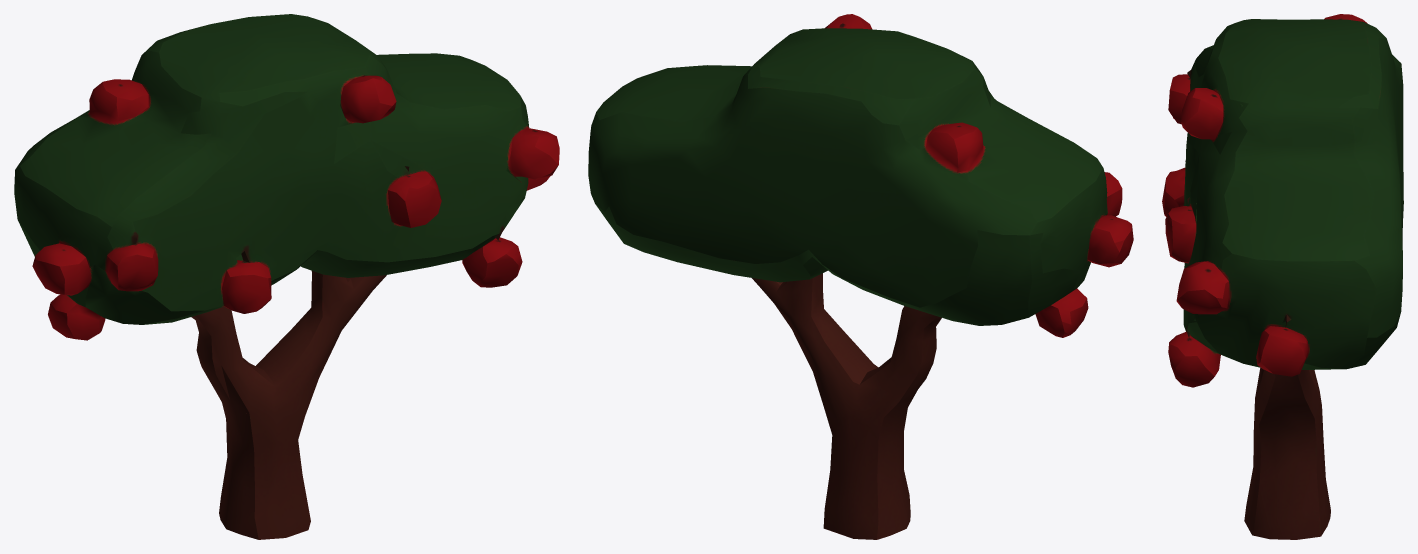
File: ENV_09_APPLE.glb
The picture shows the model from 3 angles, left to right: view 1: azimuth 30°, elevation 25°; view 2: azimuth 150°, elevation 25°; view 3: azimuth 270°, elevation 25°; orthographic projection.
Parts seen in each view (by area): view 1: world; view 2: world; view 3: world.
Boxes of the visible parts, x1=… form: world: x1=14, y1=14, x2=559, y2=539; world: x1=588, y1=14, x2=1133, y2=539; world: x1=1162, y1=14, x2=1403, y2=539.
Bounding box in the file's own units: 1 × 0.89 × 0.4031.
1 material, 1 textured.
